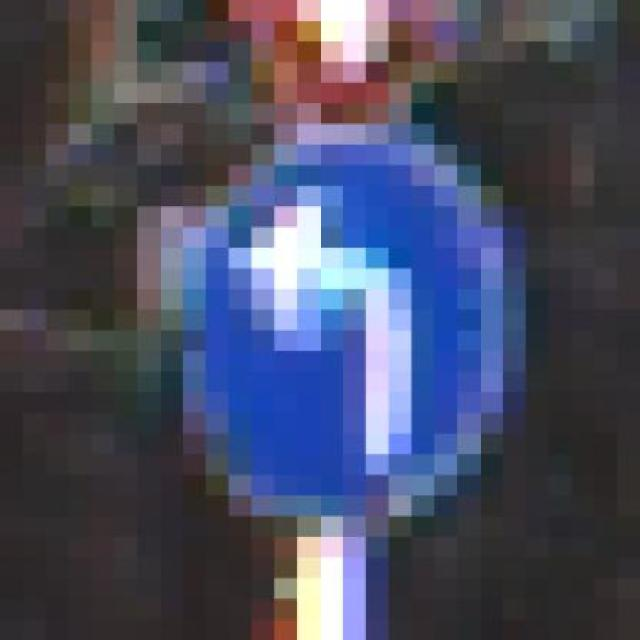Turn left ahead: (114, 103, 549, 537)
